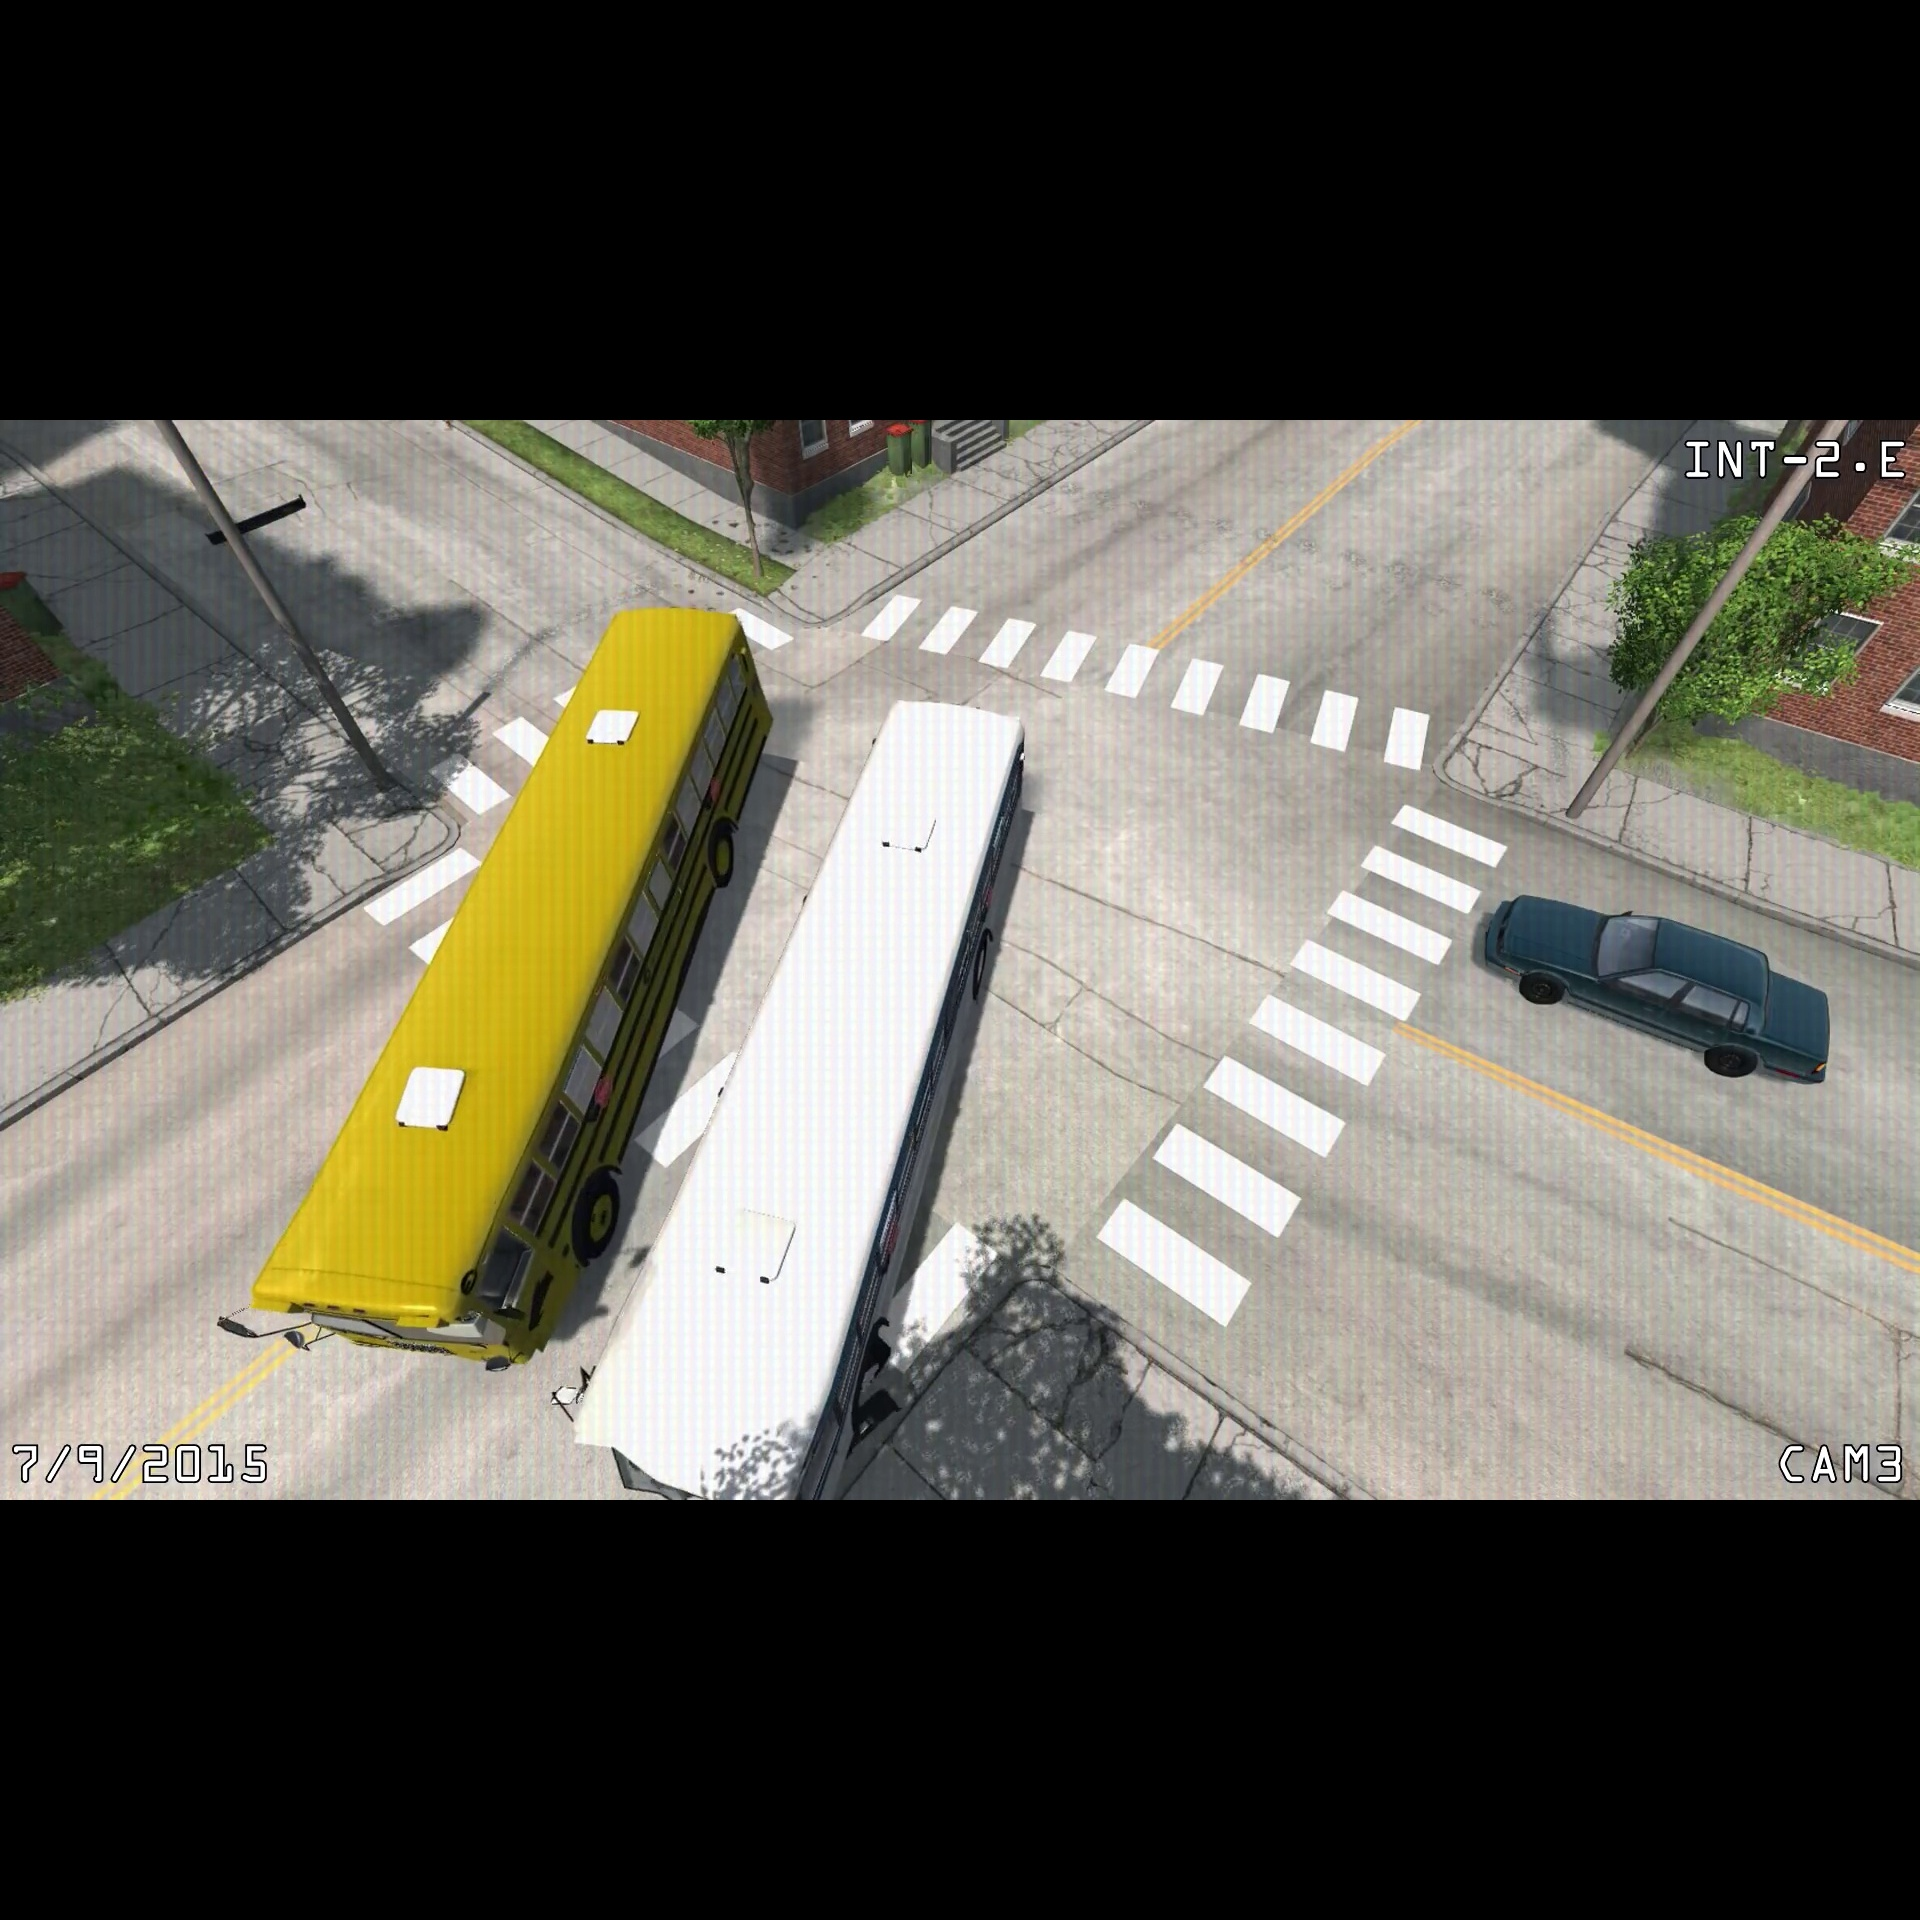vehicle: (213, 600, 782, 1377), (547, 695, 1041, 1502), (1463, 879, 1844, 1097)
